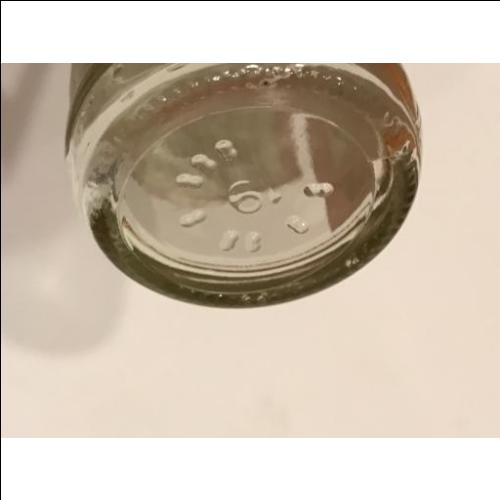glass: (68, 62, 424, 313)
